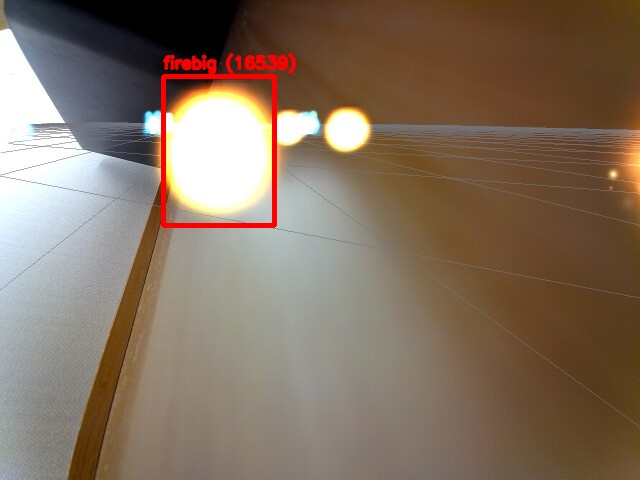firebig: (163, 76, 274, 225)
